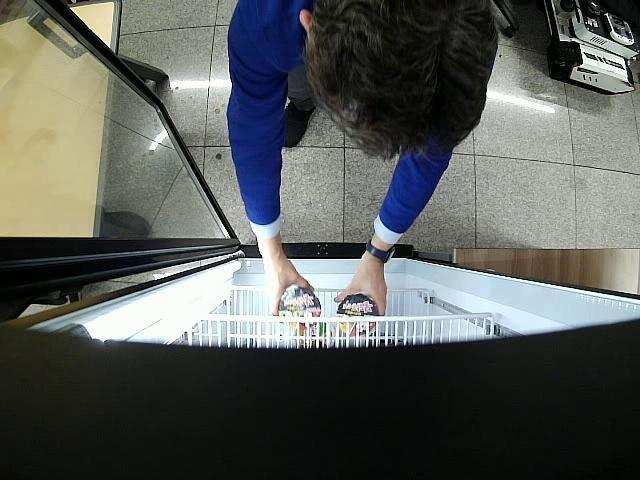08_buldak_S: (336, 294, 379, 334), (278, 288, 320, 328)
